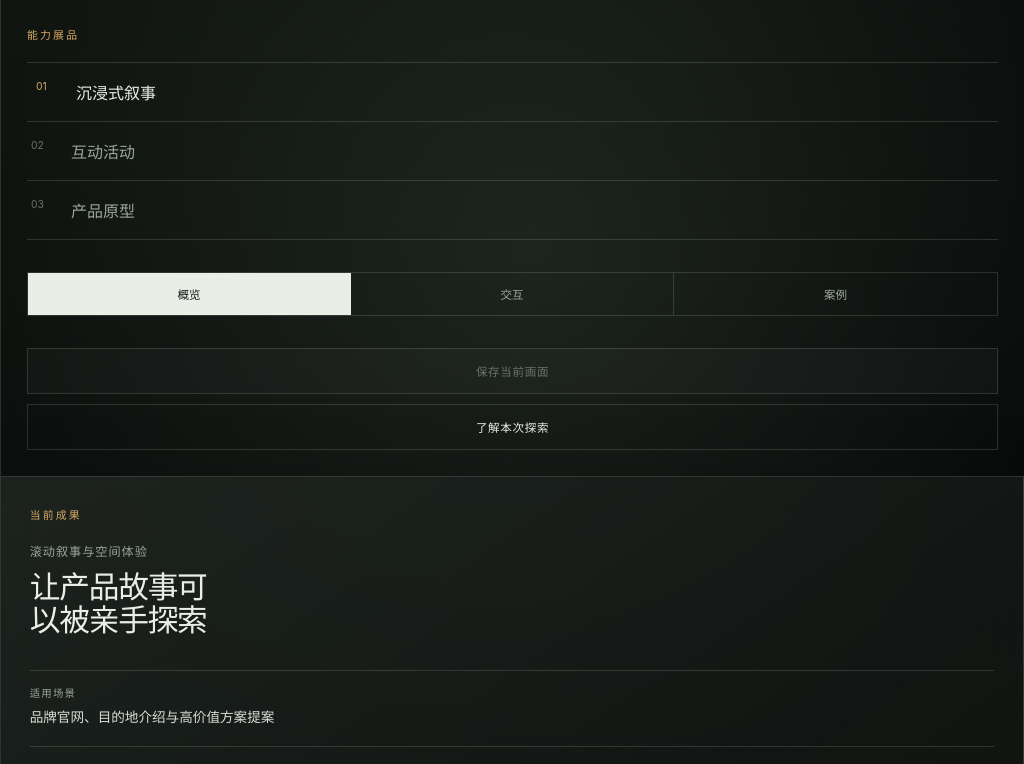
Test: updates the outcome panel after a capability selection
Click the button "02 互动活动": click(103, 152) [27,122,998,181]
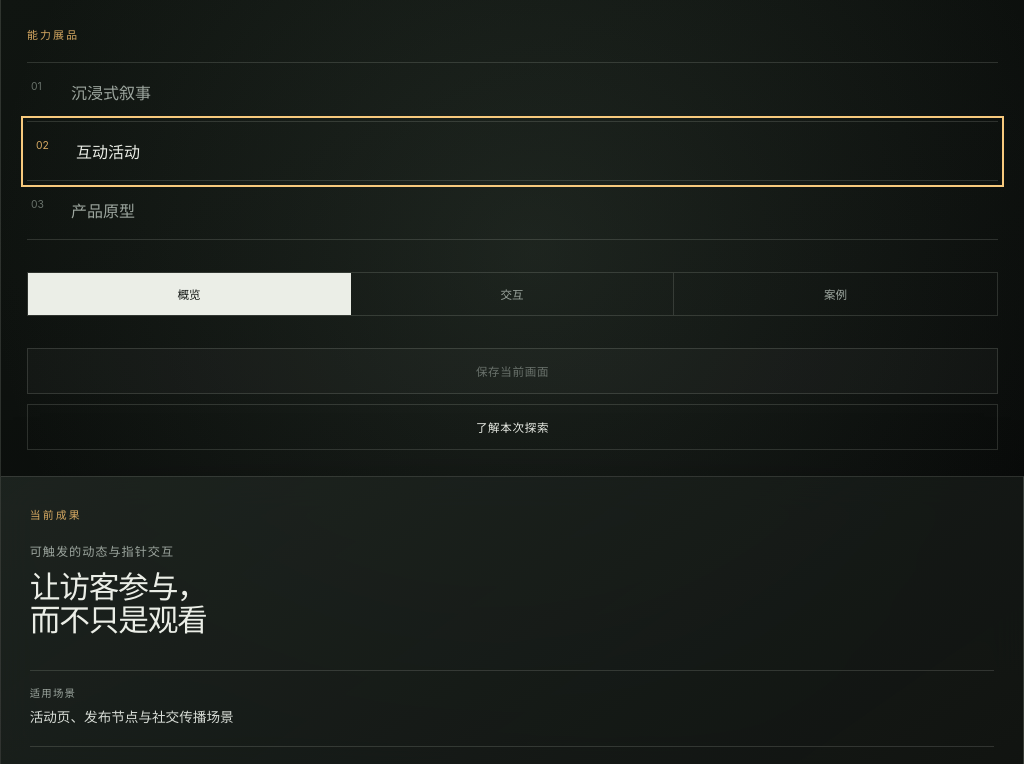
Result: the heading "让访客参与，而不只是观看" is shown at [30,572,214,639]
